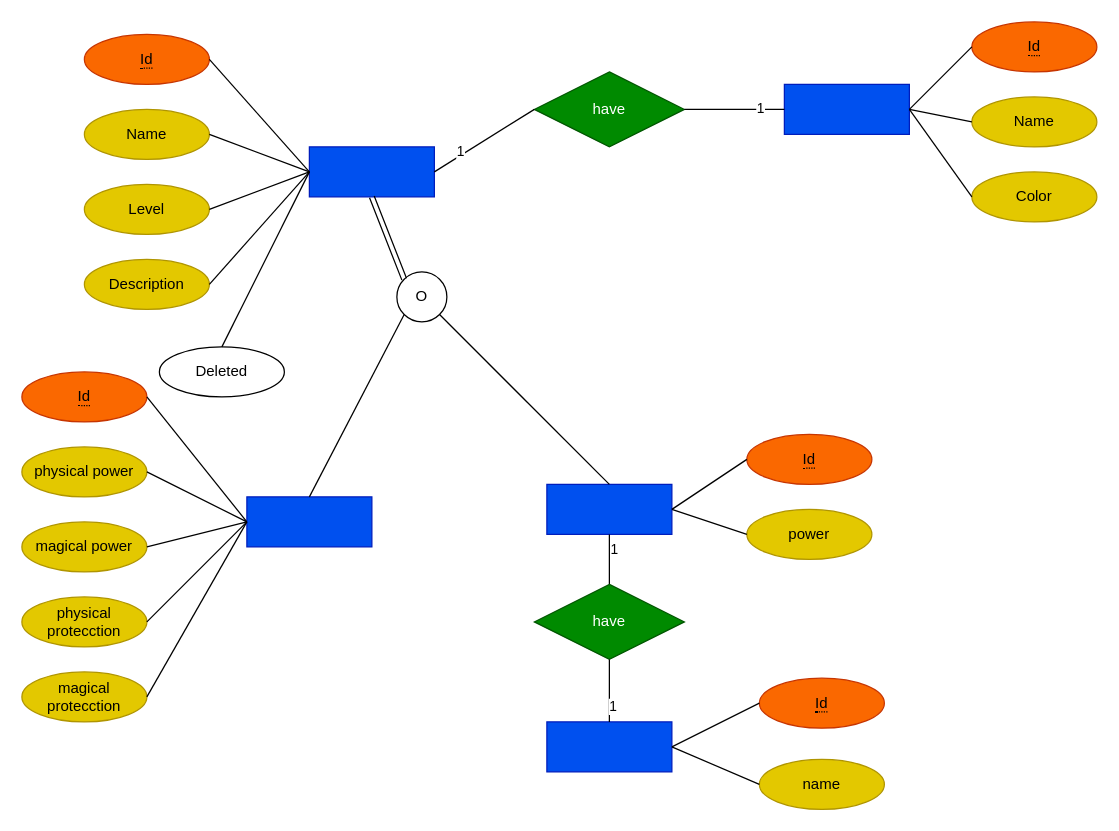
This 1119x831 diagram has some shape labels left out. The shapes that lost their labels are listed below. From the top down, each one's box as (x1, y1, x2, y2) in pixels, then its label:
(783, 83, 909, 134): preccense
(308, 146, 434, 197): Card
(246, 496, 372, 547): Entity
(546, 483, 672, 534): Skill
(546, 721, 672, 772): Type
